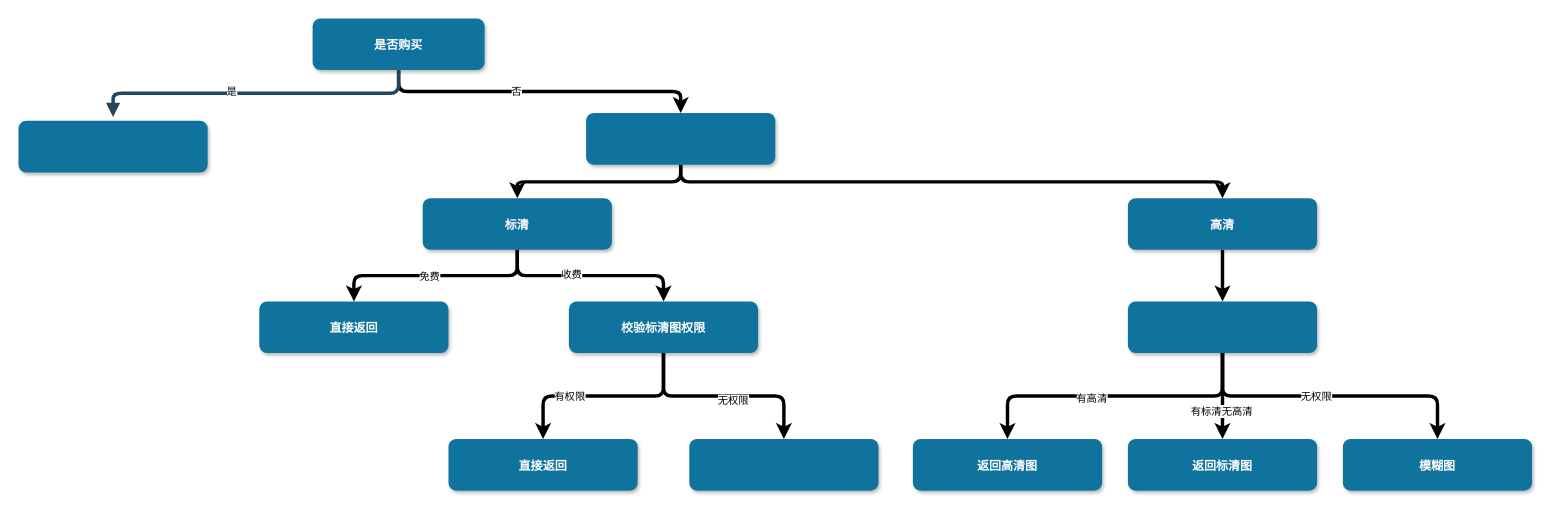
Image size: 1551x511. Some labels were removed from this diagram. The centre of each missing label's shape, as x and y in pixels:
无权限下载: the point at 784,465
校验标清、高清图权限: the point at 1223,328
校验清晰度: the point at 681,139
返回请求图片: the point at 113,147
